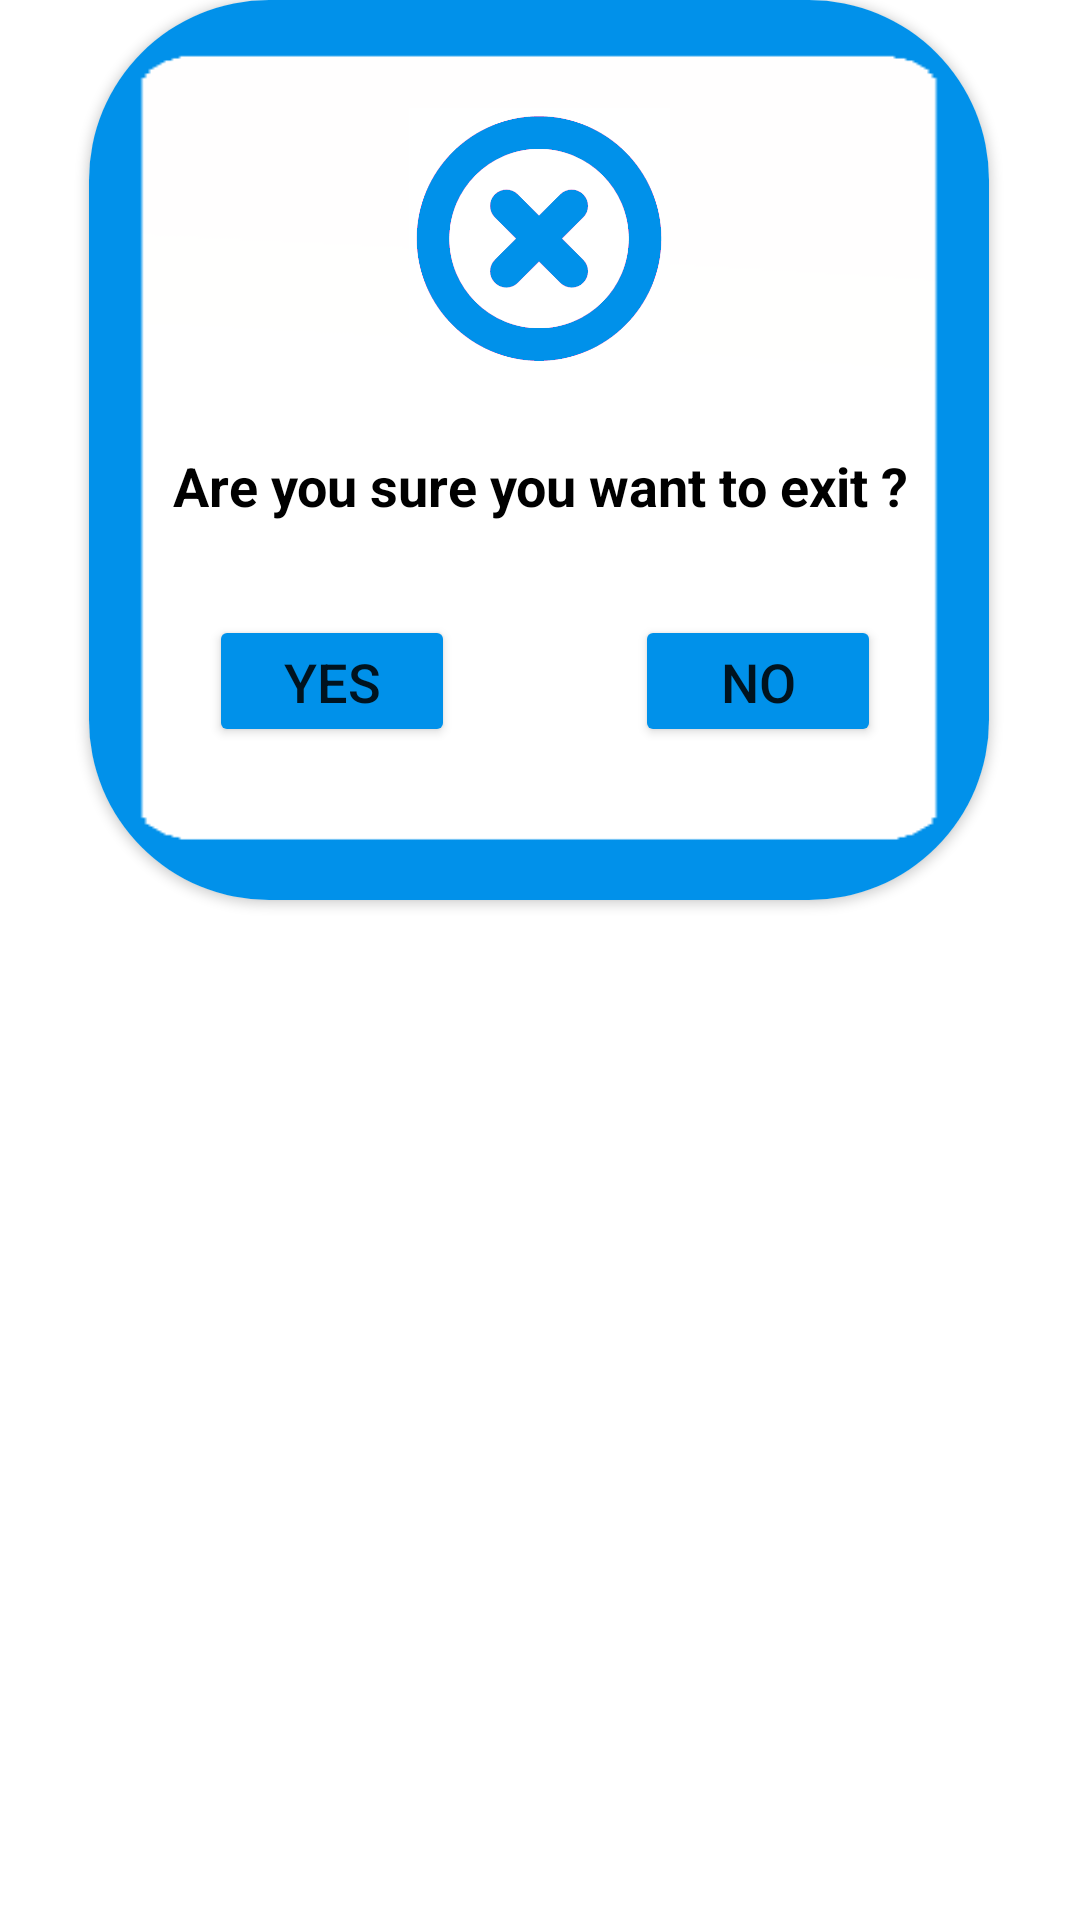

Where icons sit on this 1080 x 1920 app screen, as (x1, y1, x2, y2):
crossimage: (416, 116, 662, 361)
